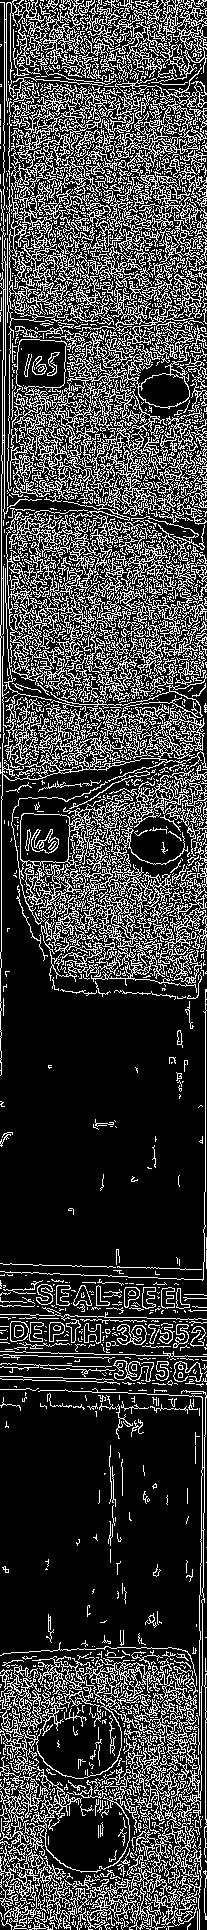hplug: (118, 807, 206, 886), (128, 343, 207, 422)
scal: (32, 1790, 148, 1892), (28, 1696, 136, 1792)
